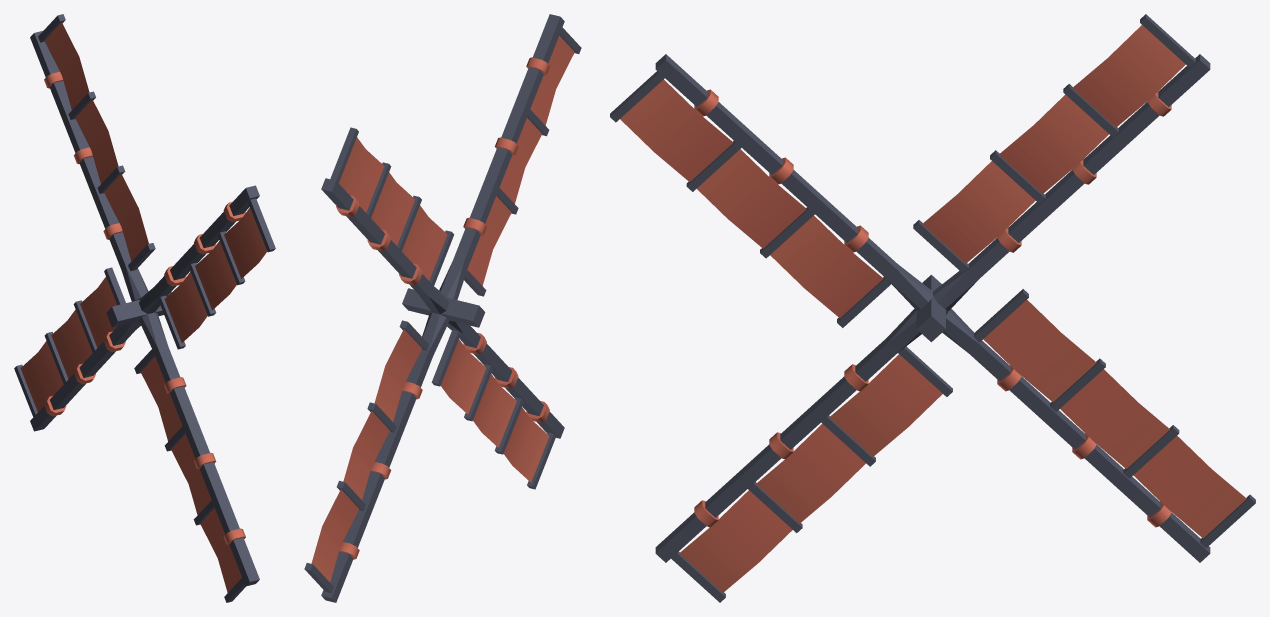
Rendered from windmill.glb.
3 renders of one model, left to right at view 1: azimuth 30°, elevation 25°; view 2: azimuth 150°, elevation 25°; view 3: azimuth 270°, elevation 25°, orthographic. The views are drawn at different scales.
Visible parts, largest first — view 1: windmill; view 2: windmill; view 3: windmill.
Boxes of the visible parts, bbox=[...] form: windmill: bbox=[14, 14, 275, 602]; windmill: bbox=[304, 14, 581, 602]; windmill: bbox=[610, 14, 1255, 602].
Bounding box in the file's own units: 0.471 × 3.11 × 3.11.
1 material, 1 textured.
